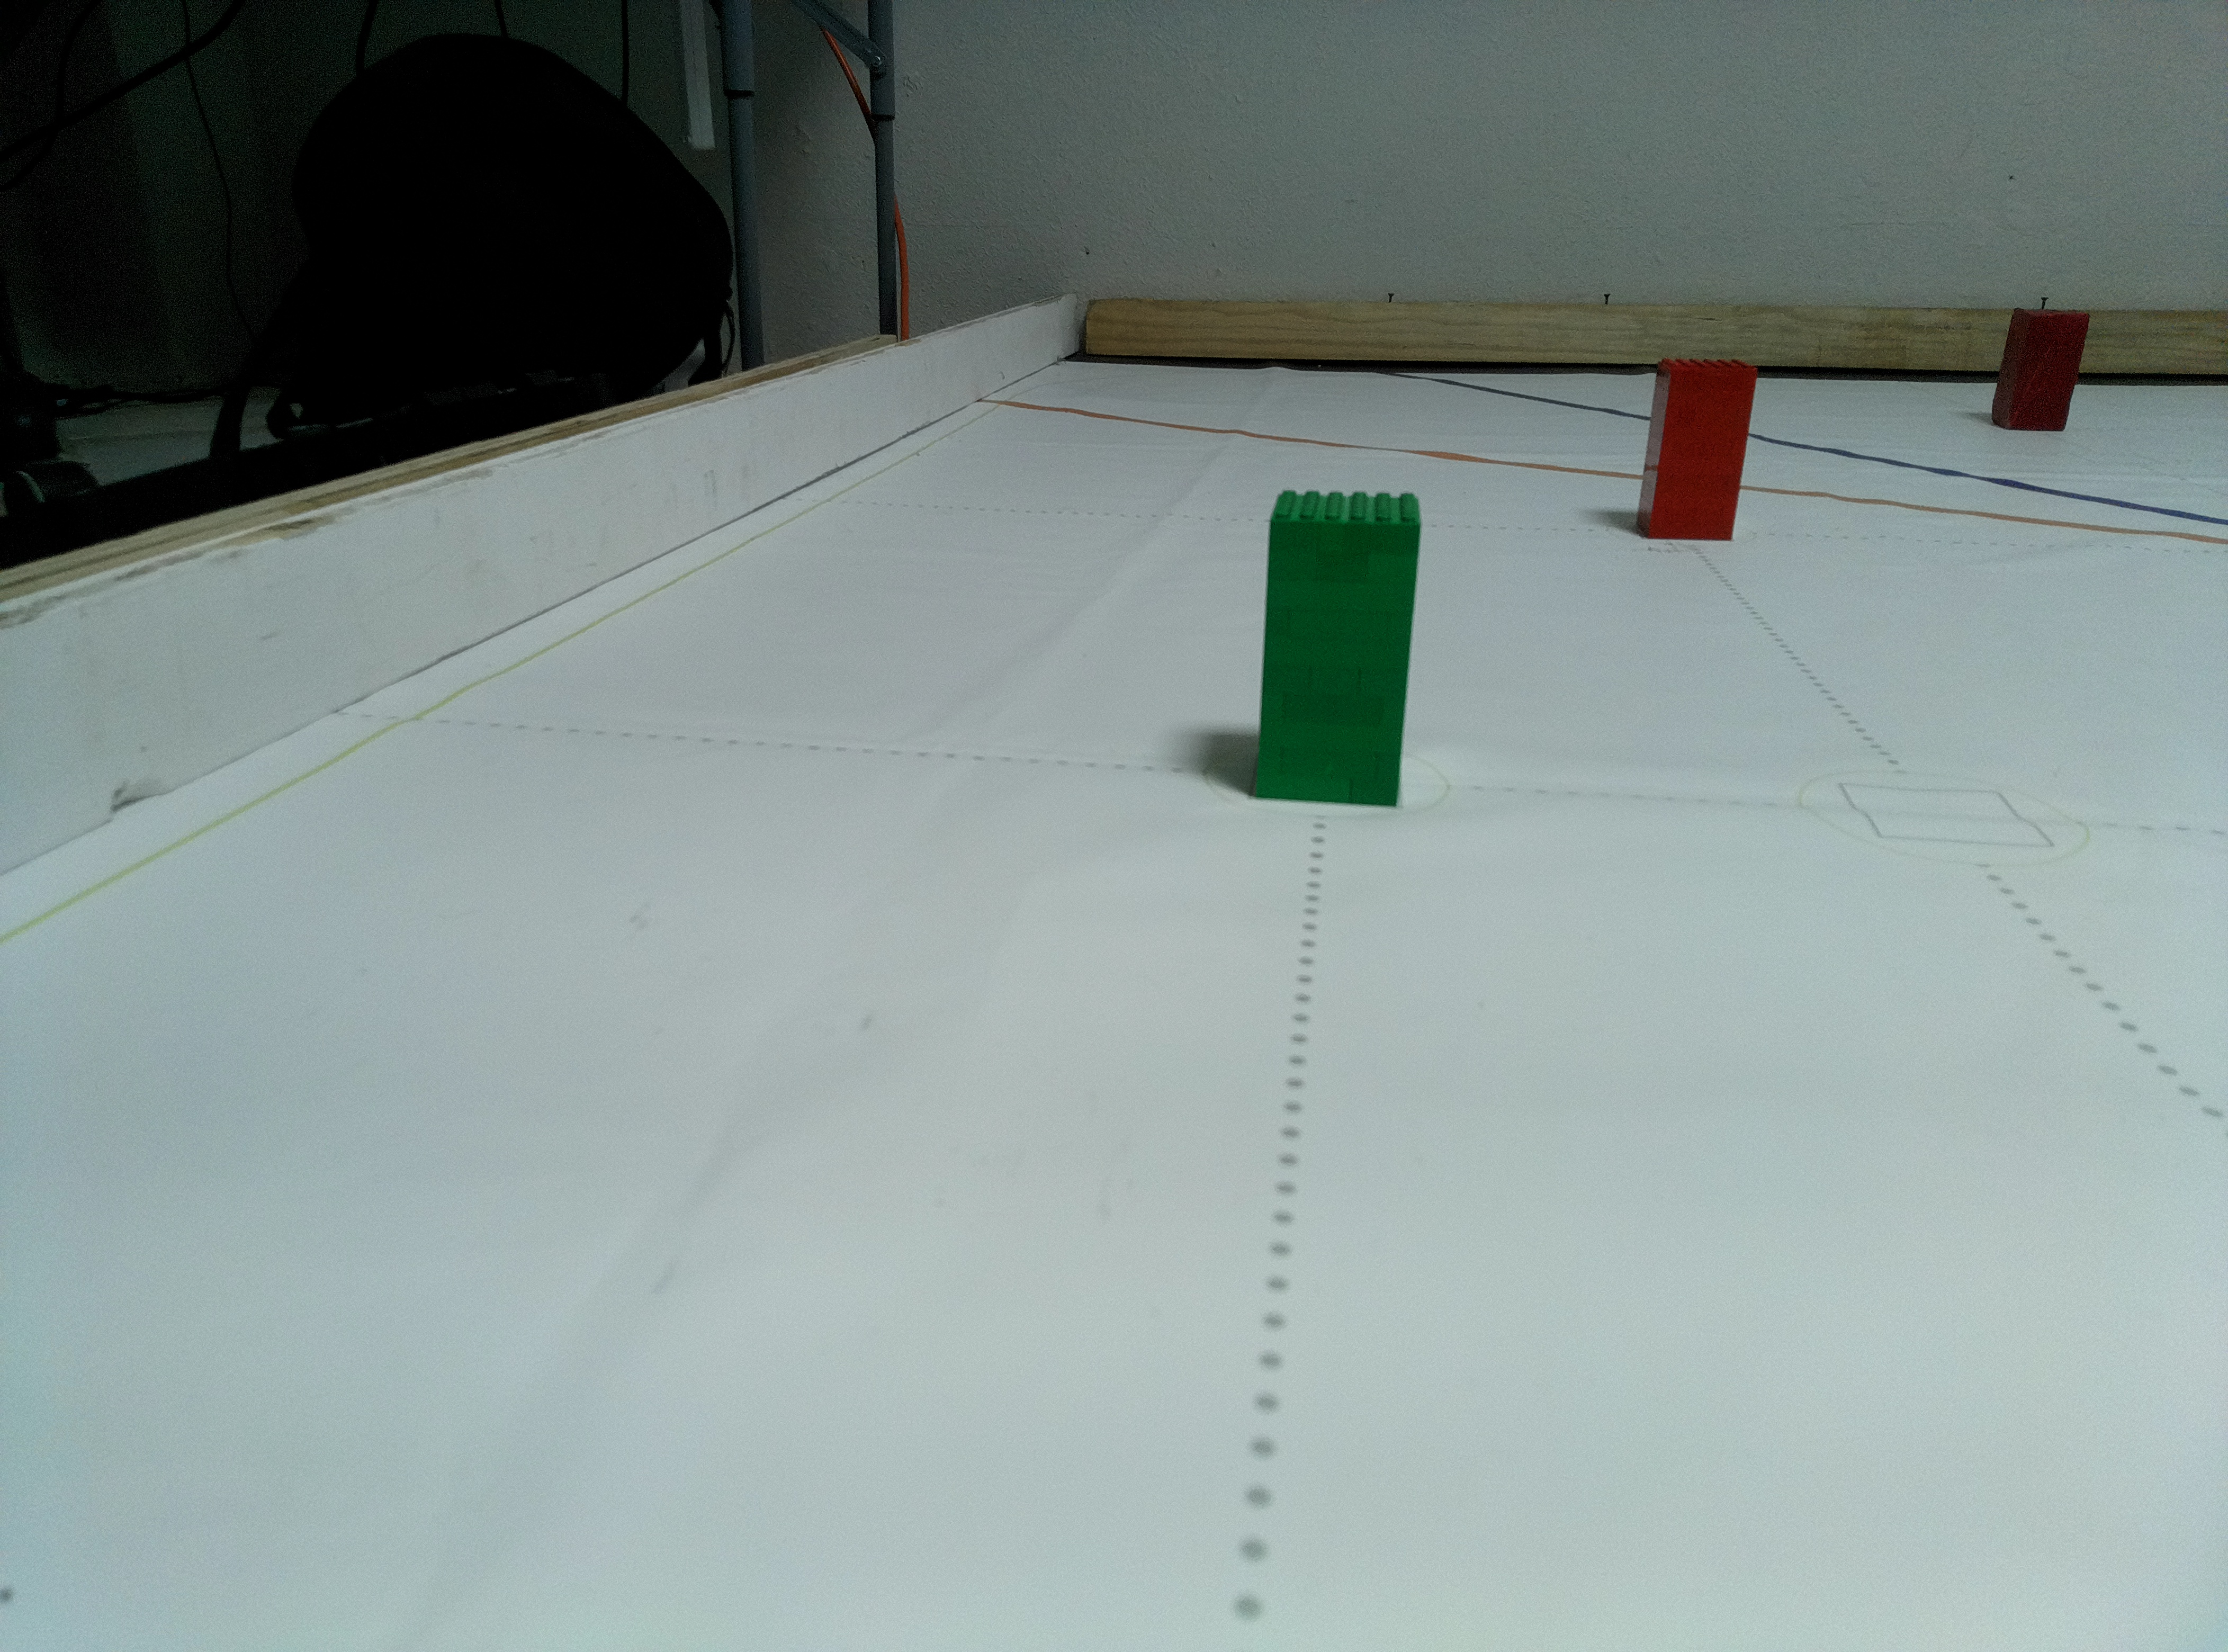greenbox: (1253, 488, 1425, 810)
redbox: (1633, 356, 1759, 543), (1989, 300, 2091, 434)
